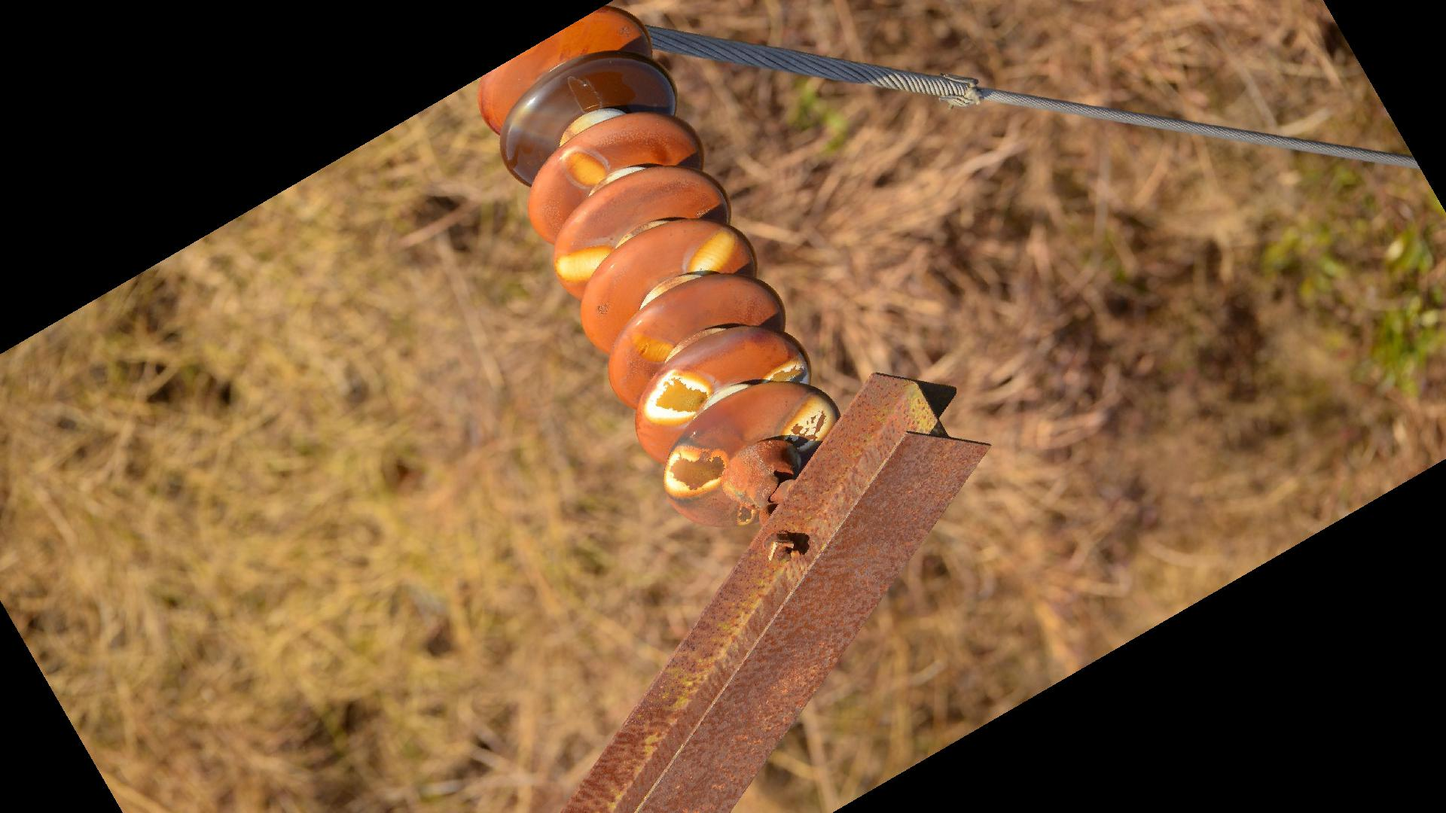insulator: (471, 1, 845, 532)
insulator_flashover: (661, 443, 731, 500), (781, 388, 840, 451), (642, 370, 711, 423), (684, 224, 741, 277), (553, 242, 616, 283), (509, 99, 569, 142), (559, 147, 612, 190), (623, 326, 678, 366), (761, 355, 813, 390)
